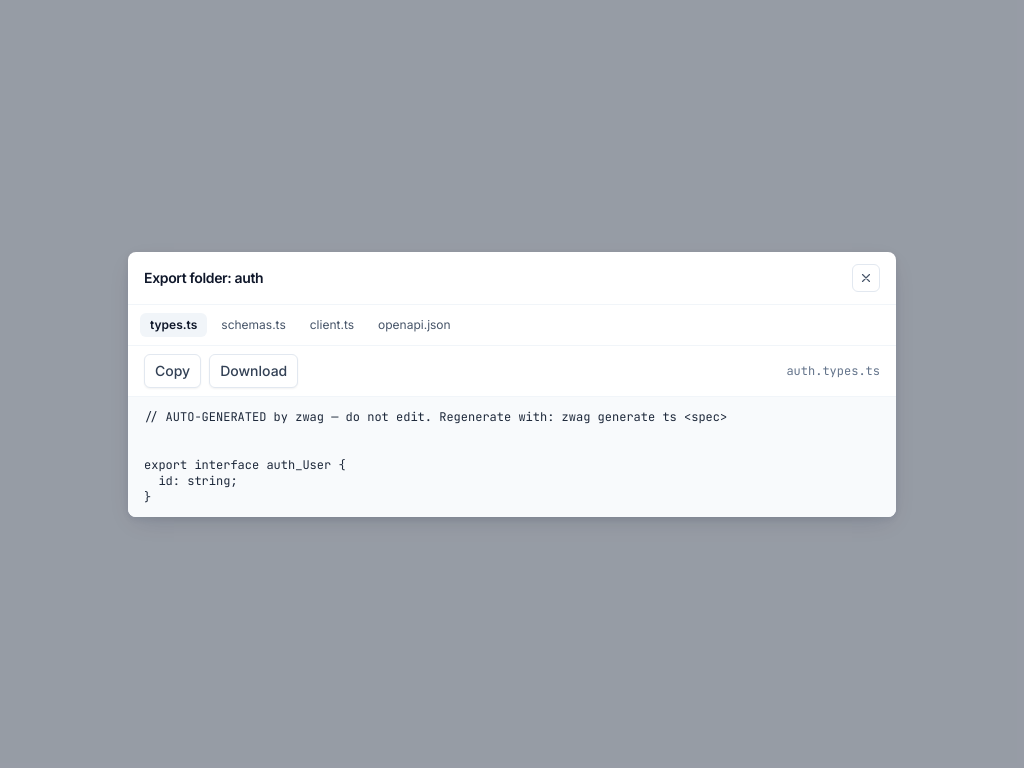
Test: openapi.json is valid JSON containing only the in-folder path
Click the tab "openapi.json".
click(414, 324)  # box x1=368 y1=312 x2=461 y2=336
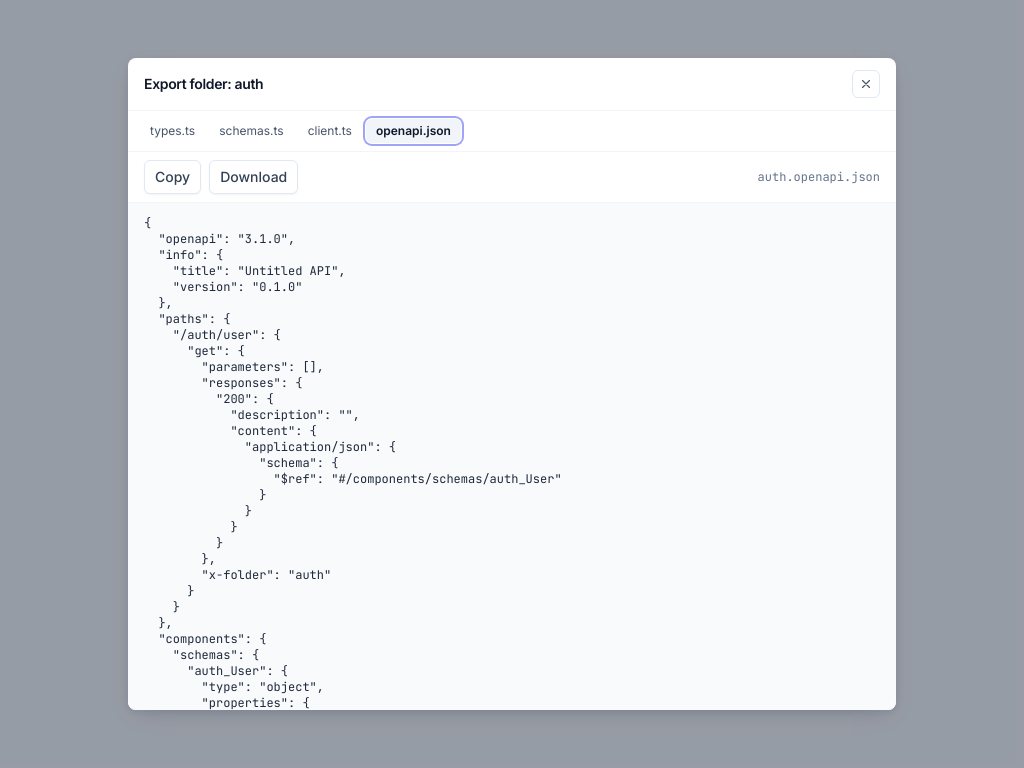
Result: the text "\"/auth/user\"" is shown at x1=144 y1=215 x2=562 y2=710
